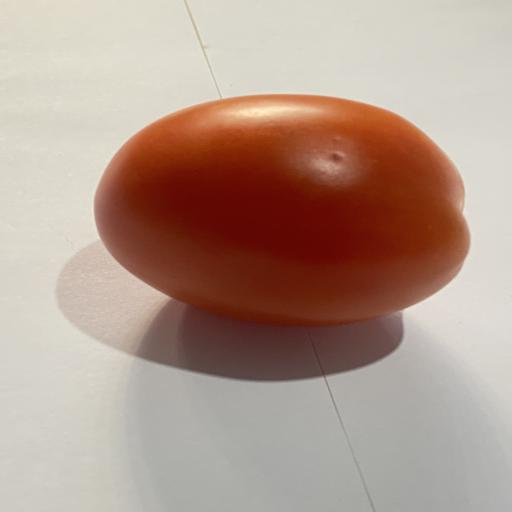ripe: (94, 94, 470, 326)
